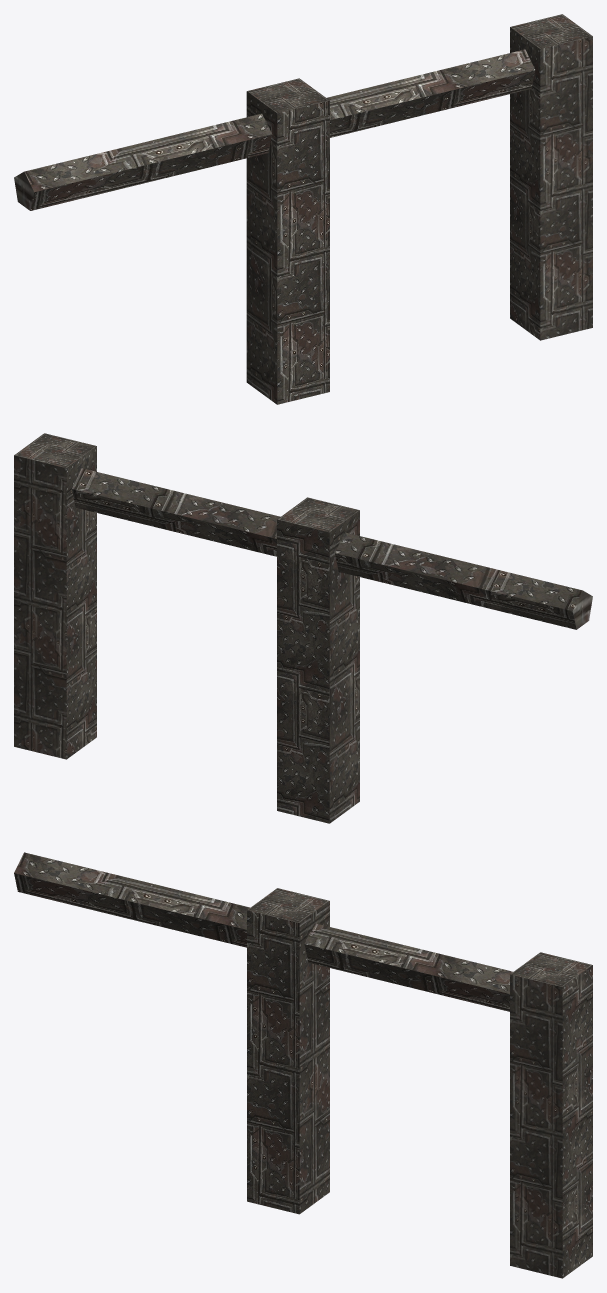
The model's file is Fence_metal5.glb.
3 views of the same model, one above another, from view 1: azimuth 30°, elevation 25°; view 2: azimuth 150°, elevation 25°; view 3: azimuth 330°, elevation 25° (orthographic).
Visible parts, largest first — view 1: Cube; view 2: Cube; view 3: Cube.
Part boxes in pixels (x1,y1,x2,y2): Cube: (14, 14, 592, 404); Cube: (14, 433, 592, 823); Cube: (14, 852, 592, 1278).
Size of what is drawn, in the model's own units: 2.1 by 1.06 by 0.2.
1 material, 1 textured.
